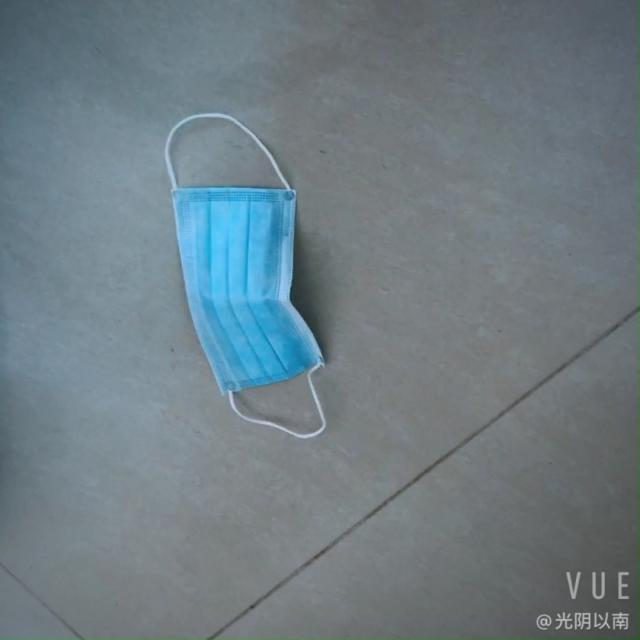face mask: (176, 174, 336, 456)
